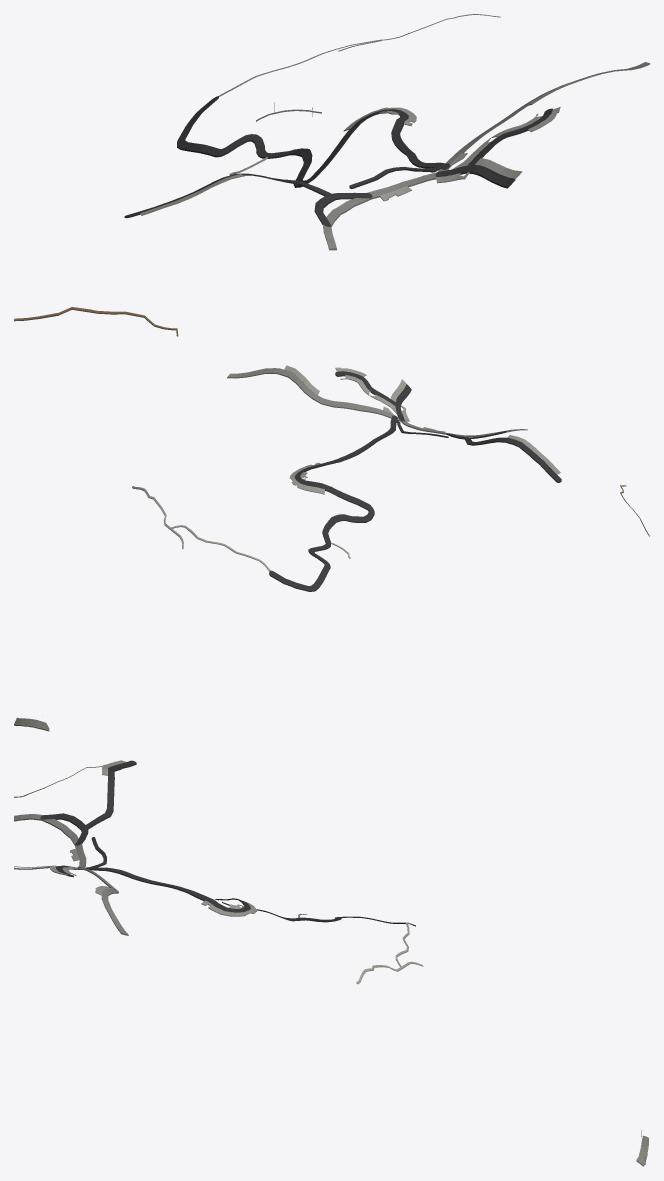
The picture shows the model from 3 angles, top to bottom: view 1: azimuth 30°, elevation 25°; view 2: azimuth 150°, elevation 25°; view 3: azimuth 270°, elevation 25°; orthographic projection. The views are drawn at different scales.
Bounding box in the file's own units: 535 × 251 × 584.
